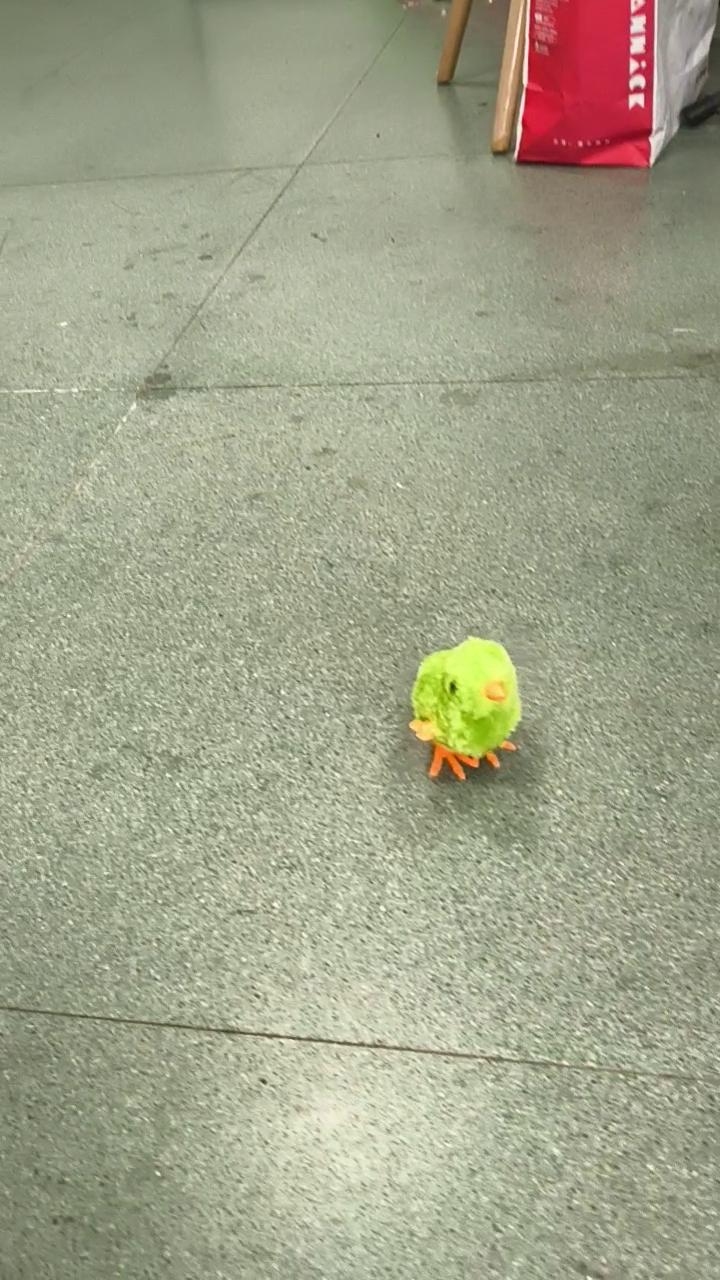green chicken: (405, 634, 531, 788)
